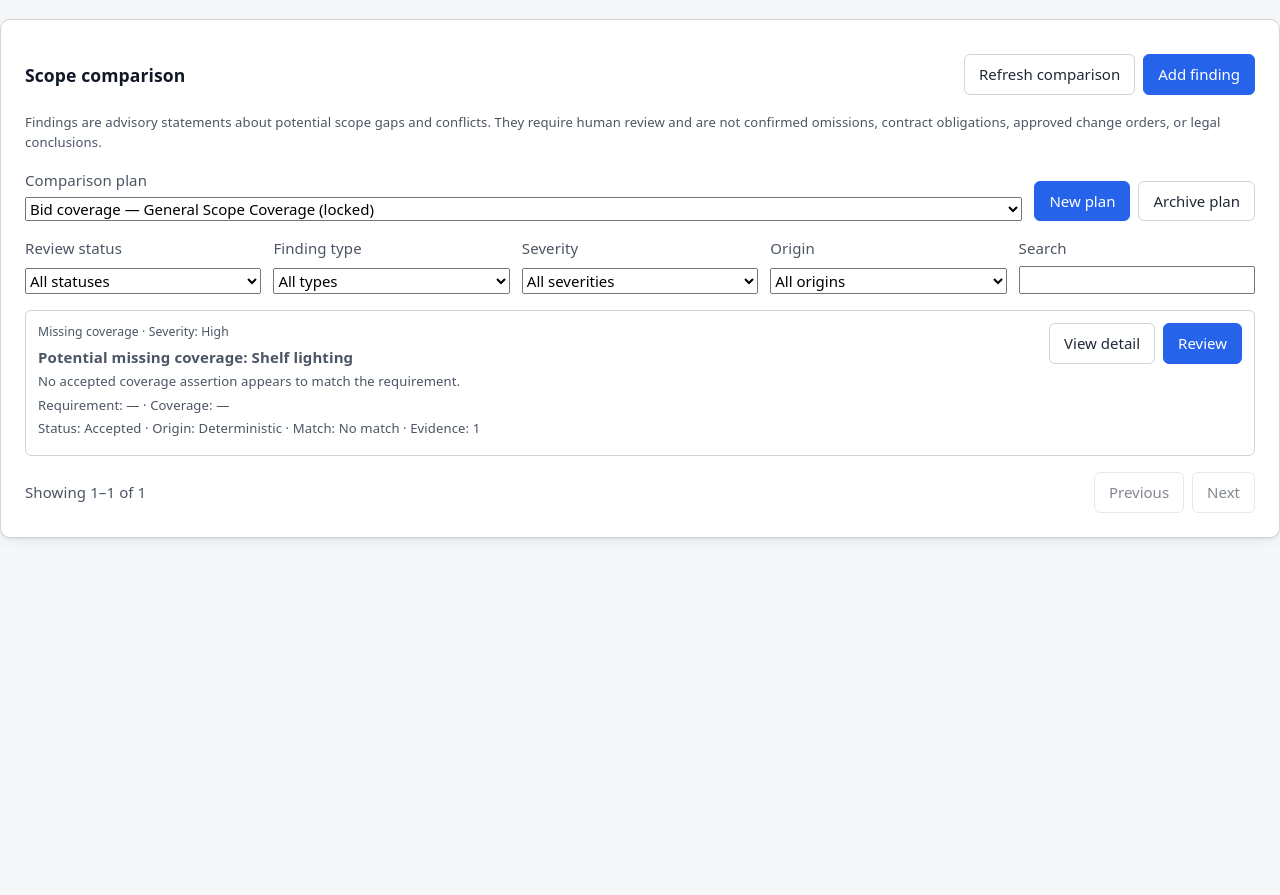
Scenario: Follow-up panel › keeps an existing follow-up visible and flags a reversed review
The width and height of the screenshot is (1280, 895).
Step 1. Click the button "View detail" → (1102, 344), box [1049,323,1155,364]
(page scrolled)
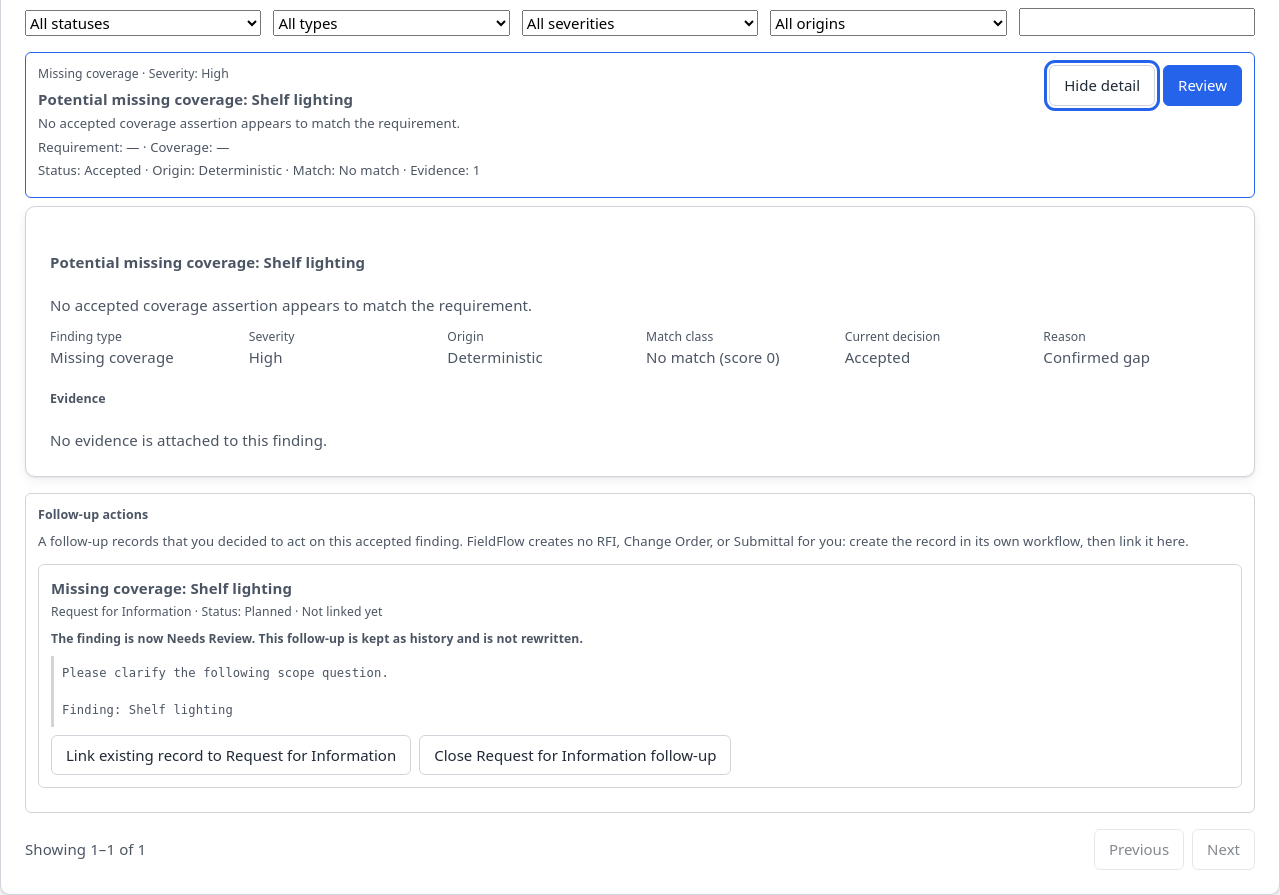
Now the list item that starts with "Missing coverage: Shelf lighting" is shown, box [51,578,292,598]
Now the list item that starts with "Missing coverage: Shelf lighting" shows "The finding is now Needs Review. This follow-up is kept as history and is not rewritten.", box [38,564,1242,788]
